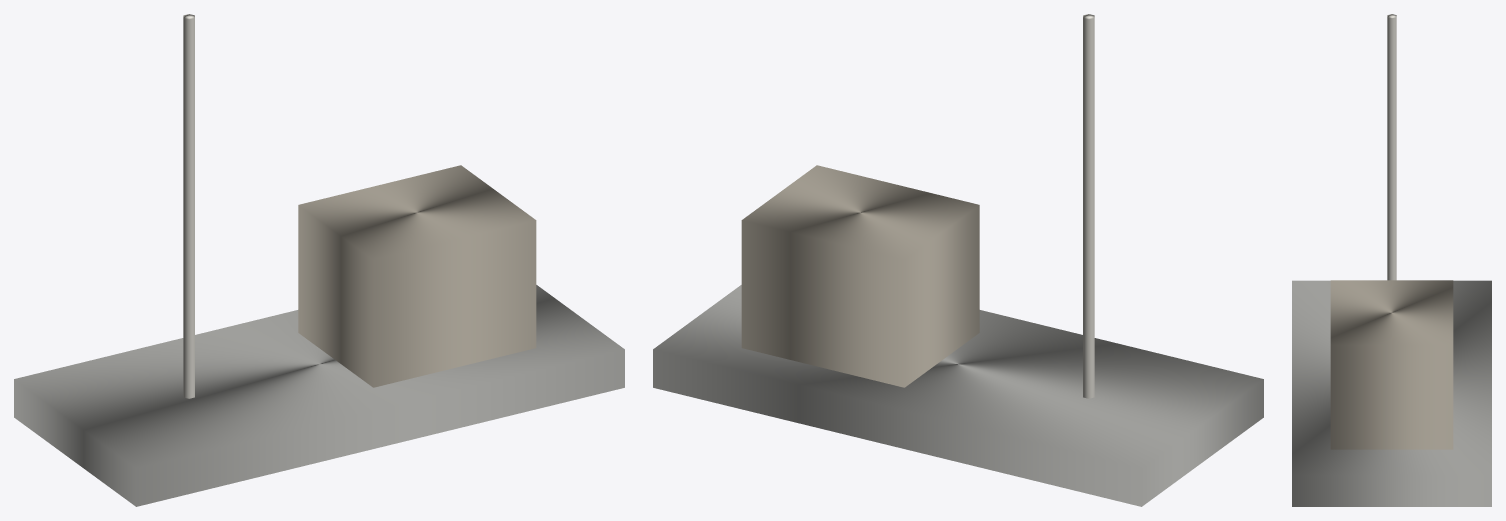
The model's file is Mark_Committee.glb.
3 renders of one model, left to right at view 1: azimuth 30°, elevation 25°; view 2: azimuth 150°, elevation 25°; view 3: azimuth 270°, elevation 25°, orthographic. The views are drawn at different scales.
Visible parts, largest first — view 1: deck, cabin, mast; view 2: deck, cabin, mast; view 3: deck, cabin, mast.
Part boxes in pixels (x1,y1,x2,y2): deck: (14,285,624,506); cabin: (298,165,536,387); mast: (183,14,194,398); deck: (653,285,1263,506); cabin: (741,165,979,387); mast: (1083,14,1094,398); deck: (1292,280,1491,506); cabin: (1330,280,1453,449); mast: (1387,14,1396,280).
Bounding box in the file's own units: 6 × 4.9 × 2.6.
